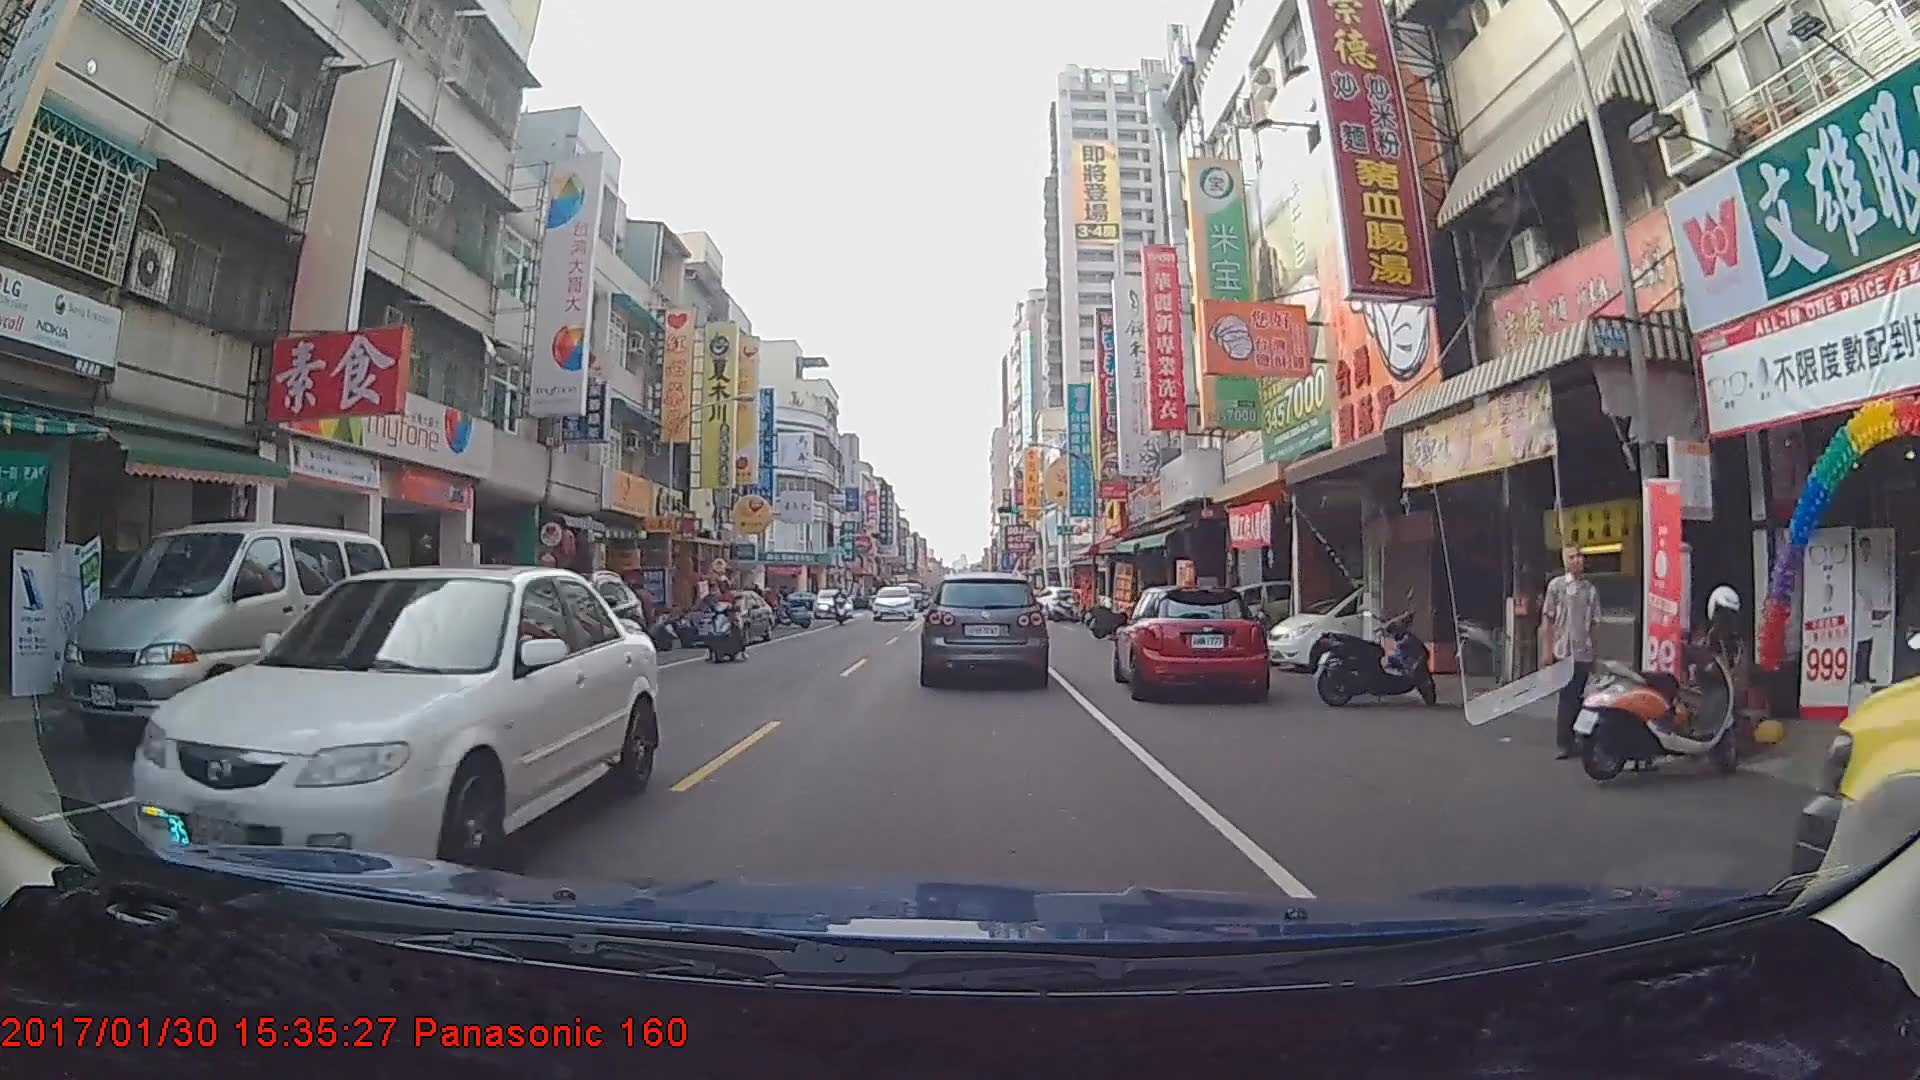pedestrian: (1541, 542, 1608, 764)
rider: (707, 576, 751, 660)
vehicle: (130, 566, 655, 895), (59, 520, 397, 757), (1118, 583, 1271, 700), (921, 571, 1047, 684), (676, 591, 773, 649), (868, 582, 913, 619), (811, 586, 852, 618)
